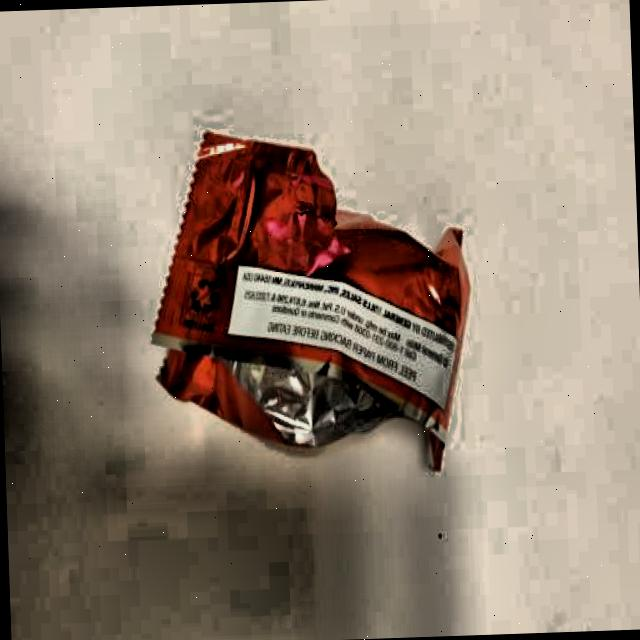trash: (172, 131, 476, 469)
